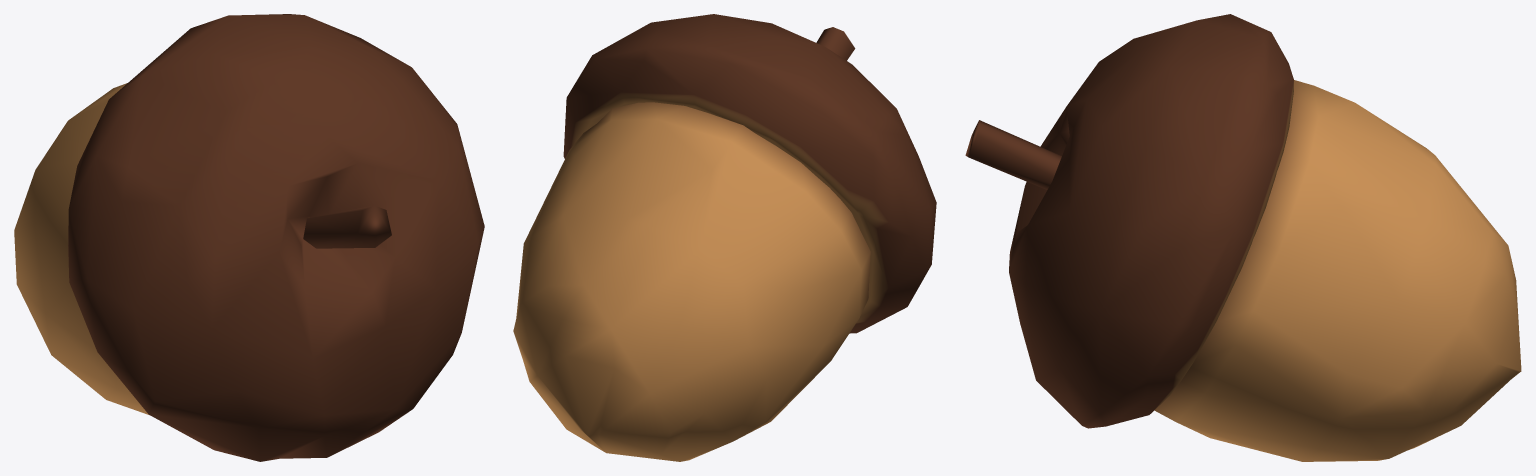
Rendered from forage_acorn.glb.
3 views of the same model, side by side, from view 1: azimuth 30°, elevation 25°; view 2: azimuth 150°, elevation 25°; view 3: azimuth 270°, elevation 25° (orthographic). The views are drawn at different scales.
Parts seen in each view (by area): view 1: forage_acorn; view 2: forage_acorn; view 3: forage_acorn.
Part boxes in pixels (box(x1,y1,x2,y2)): forage_acorn: box(14, 14, 484, 461); forage_acorn: box(513, 14, 936, 461); forage_acorn: box(965, 14, 1521, 461).
Bounding box in the file's own units: 0.8013 × 0.8008 × 0.9942.
